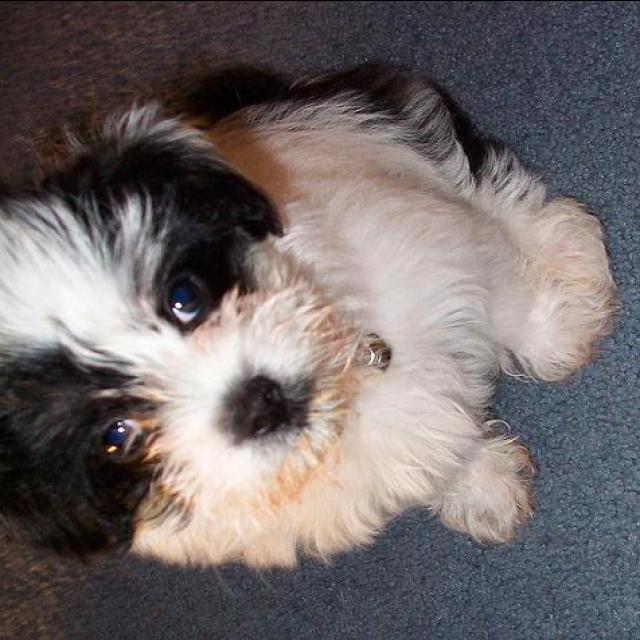shih_tzu: (0, 57, 616, 571)
